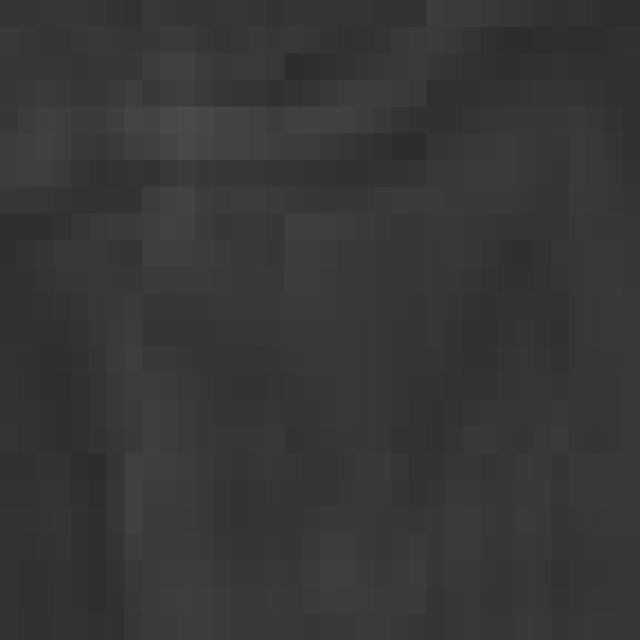fracture: (9, 16, 640, 640)
